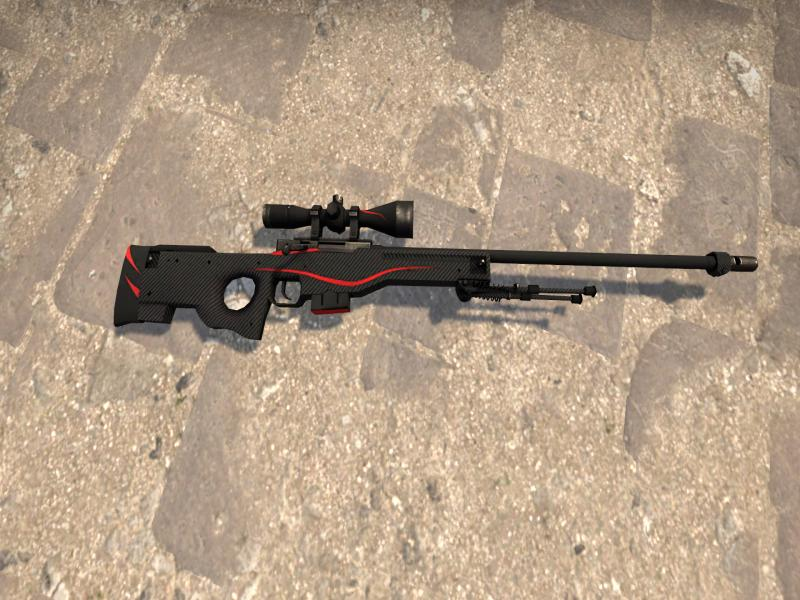AWP: (113, 195, 760, 339)
